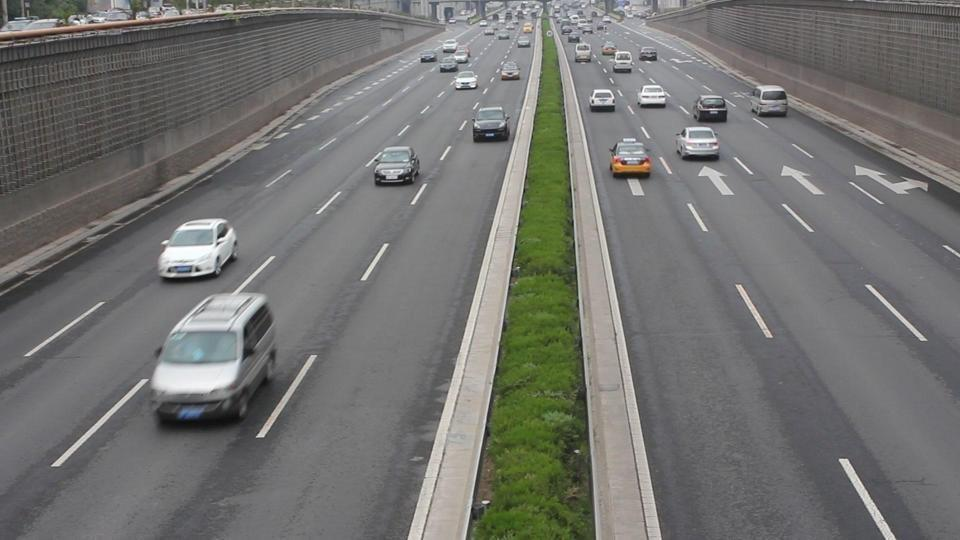car: (146, 291, 279, 427), (157, 218, 239, 281), (373, 147, 420, 185), (673, 125, 721, 161), (609, 139, 653, 178), (472, 104, 511, 142), (750, 85, 789, 117), (692, 94, 730, 123), (637, 83, 669, 109), (590, 88, 616, 112), (453, 71, 479, 90), (498, 60, 521, 81), (613, 51, 632, 73), (575, 43, 592, 63), (438, 57, 458, 73), (516, 31, 533, 47), (639, 48, 657, 62)
